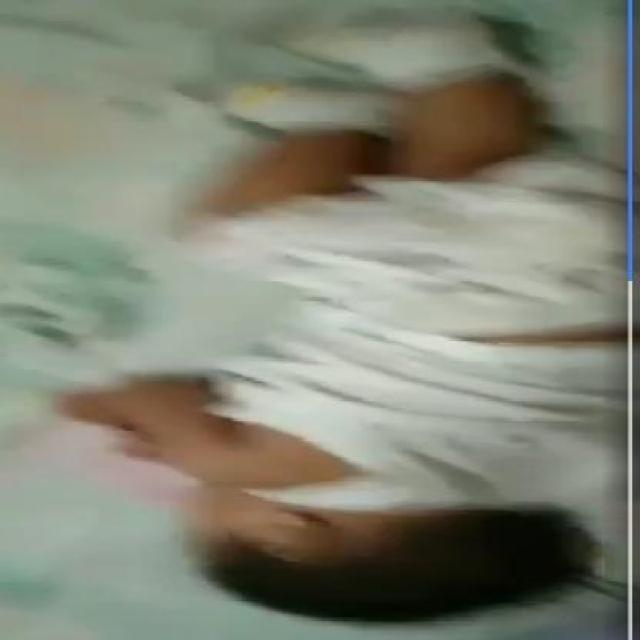non-dog: (44, 68, 636, 627)
